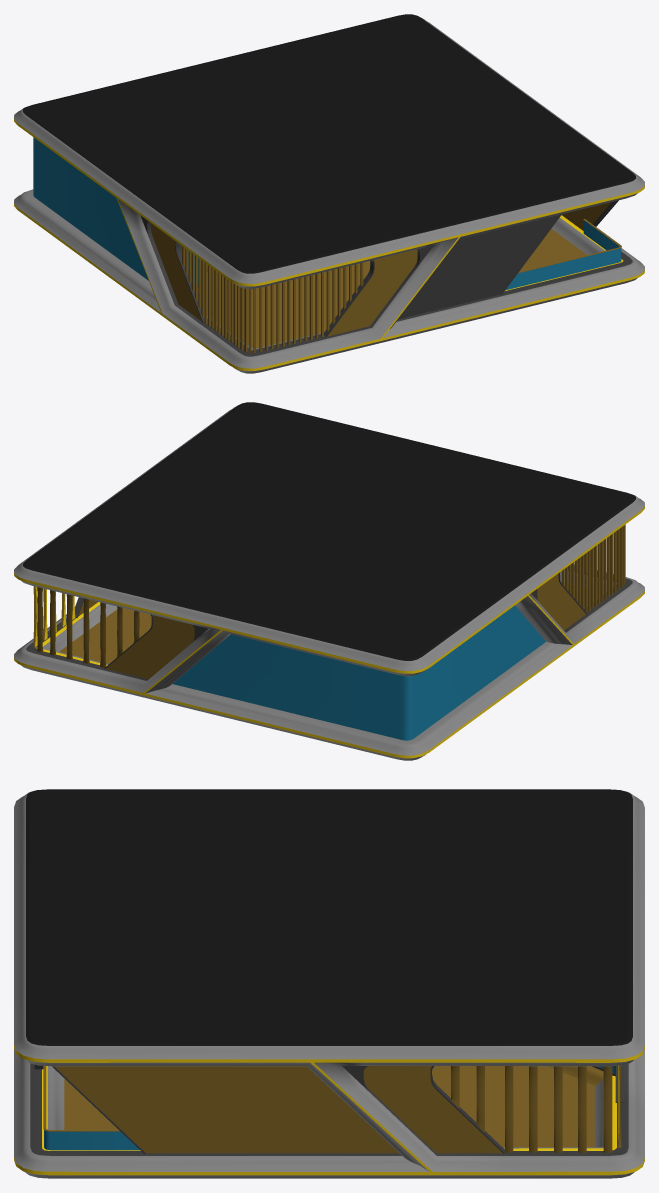
File: SM_MK9_Building_Middle_002.fbx
3 renders of one model, top to bottom at view 1: azimuth 30°, elevation 25°; view 2: azimuth 150°, elevation 25°; view 3: azimuth 270°, elevation 25°, orthographic. The views are drawn at different scales.
Parts seen in each view (by area): view 1: SM_MK9_Building_Middle_002; view 2: SM_MK9_Building_Middle_002; view 3: SM_MK9_Building_Middle_002.
Boxes of the visible parts, box(x1,y1,x2,y2) form: SM_MK9_Building_Middle_002: box(14, 14, 644, 373); SM_MK9_Building_Middle_002: box(14, 402, 644, 760); SM_MK9_Building_Middle_002: box(14, 789, 644, 1178).
Size of the model in its own units: 2137 by 500 by 2137.
